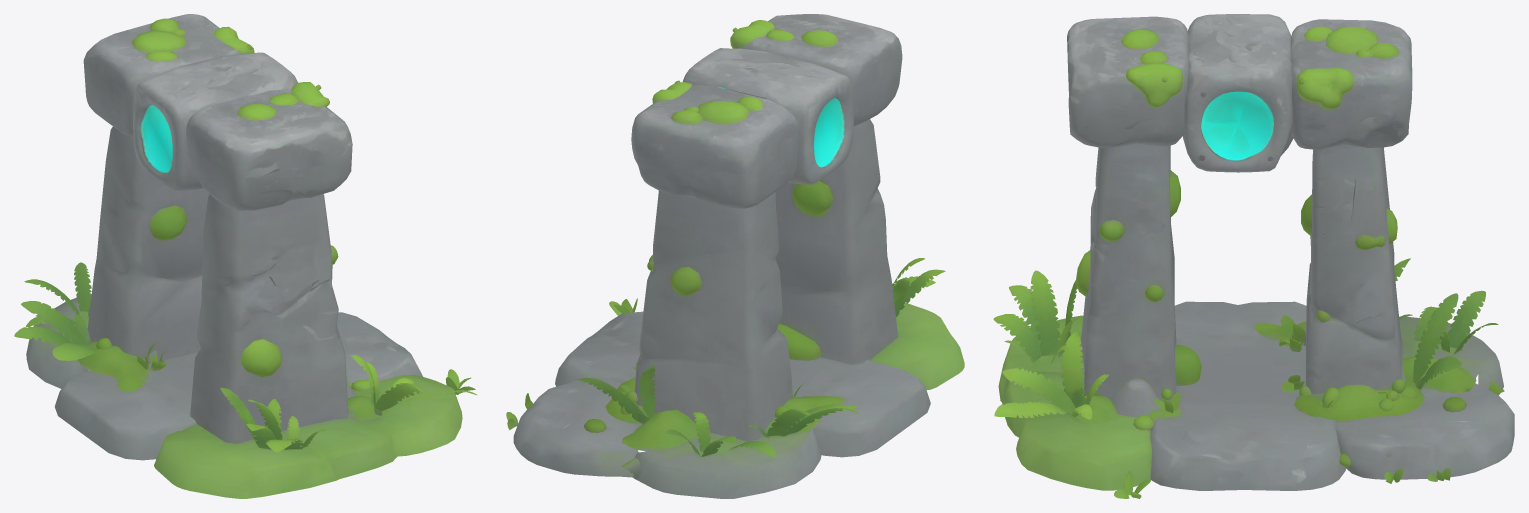
The model's file is megalith_arch.glb.
The picture shows the model from 3 angles, left to right: view 1: azimuth 30°, elevation 25°; view 2: azimuth 150°, elevation 25°; view 3: azimuth 270°, elevation 25°; orthographic projection. The views are drawn at different scales.
Parts seen in each view (by area): view 1: tripo_node_1fd3b071-f84b-4b0c-845c-dc5990b853f5; view 2: tripo_node_1fd3b071-f84b-4b0c-845c-dc5990b853f5; view 3: tripo_node_1fd3b071-f84b-4b0c-845c-dc5990b853f5.
Boxes of the visible parts, bbox=[...] form: tripo_node_1fd3b071-f84b-4b0c-845c-dc5990b853f5: bbox=[14, 14, 476, 498]; tripo_node_1fd3b071-f84b-4b0c-845c-dc5990b853f5: bbox=[506, 14, 964, 498]; tripo_node_1fd3b071-f84b-4b0c-845c-dc5990b853f5: bbox=[993, 14, 1514, 498].
Size of the model in its own units: 0.8482 by 0.7632 by 0.9995.
1 material, 1 textured.
